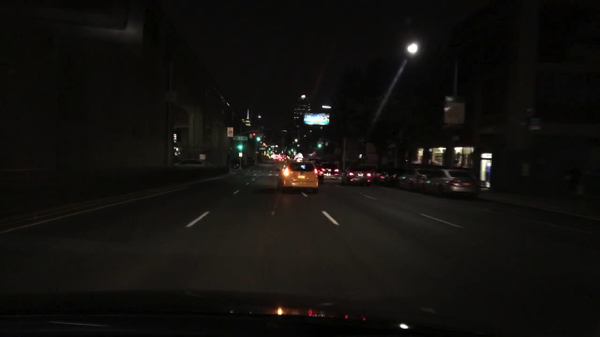car: (421, 168, 481, 201), (275, 153, 319, 195), (396, 168, 432, 193), (341, 163, 372, 188), (174, 159, 211, 169), (384, 167, 400, 189), (320, 162, 339, 178), (372, 167, 385, 185), (314, 164, 324, 184), (231, 159, 245, 169), (247, 158, 256, 166), (273, 154, 280, 161), (279, 156, 286, 162), (257, 156, 262, 163), (270, 154, 275, 159), (265, 153, 270, 158)
traffic light: (237, 144, 243, 150), (318, 143, 322, 148), (257, 137, 260, 142), (291, 148, 294, 153), (252, 132, 255, 137), (268, 147, 270, 152)
traffic sign: (446, 101, 463, 123), (528, 118, 541, 131), (524, 105, 535, 118), (515, 118, 528, 125), (232, 136, 248, 141), (227, 127, 233, 137), (249, 133, 253, 139), (239, 153, 242, 158), (325, 142, 328, 147)
